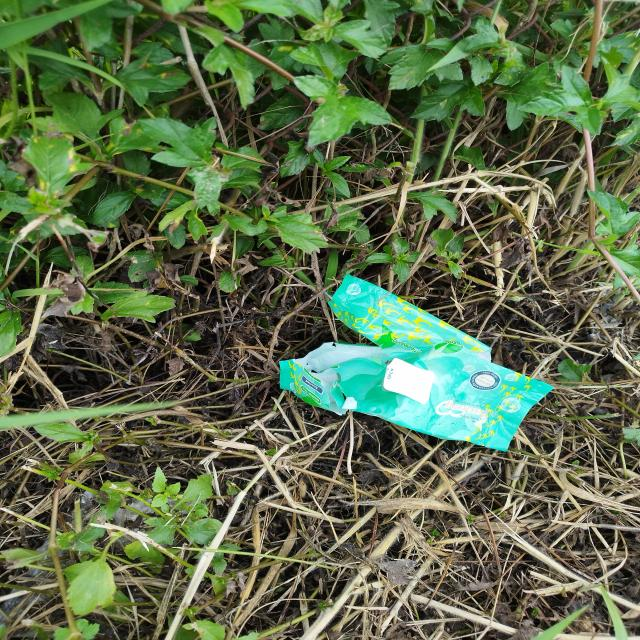packet: (280, 276, 552, 450)
